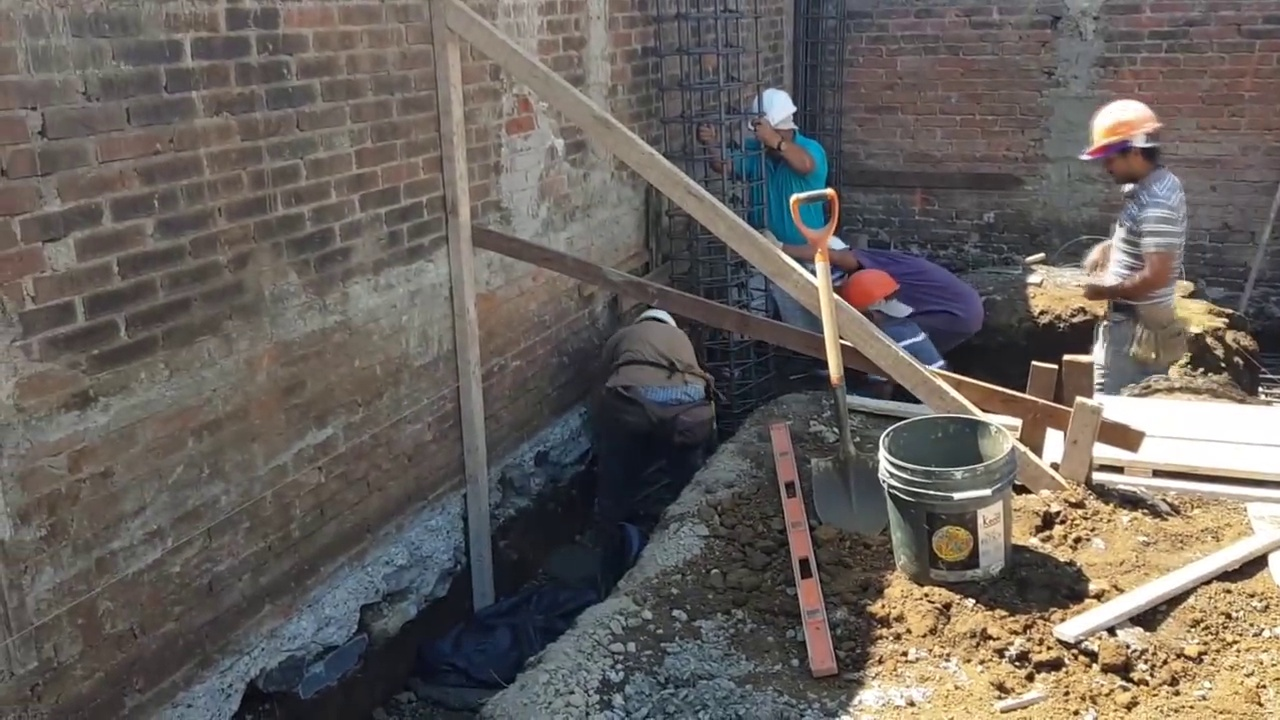helmet: (1082, 98, 1166, 159), (841, 264, 900, 309), (748, 88, 797, 132), (634, 309, 676, 327), (827, 235, 851, 251)
helmet-on: (1081, 92, 1168, 192), (838, 258, 915, 332), (748, 86, 797, 161), (633, 309, 677, 330), (827, 235, 853, 261)
person: (1079, 90, 1194, 397), (698, 78, 828, 342), (595, 308, 717, 530), (828, 224, 987, 355), (832, 261, 949, 375)
